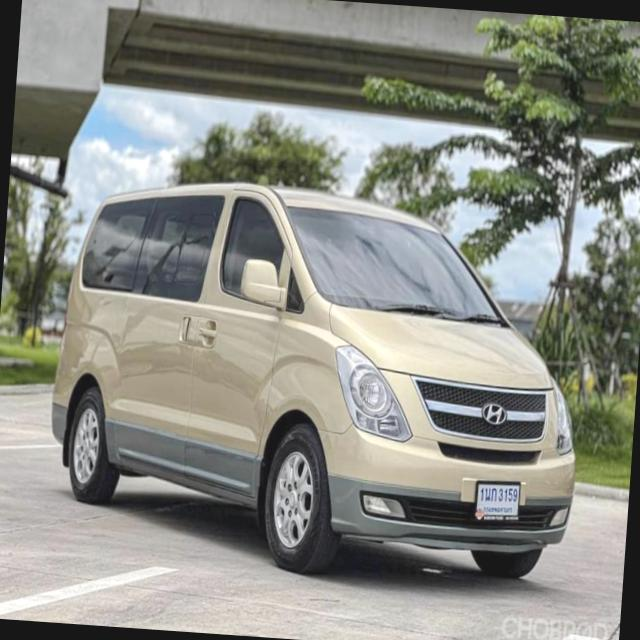license_plate: (470, 474, 526, 526)
